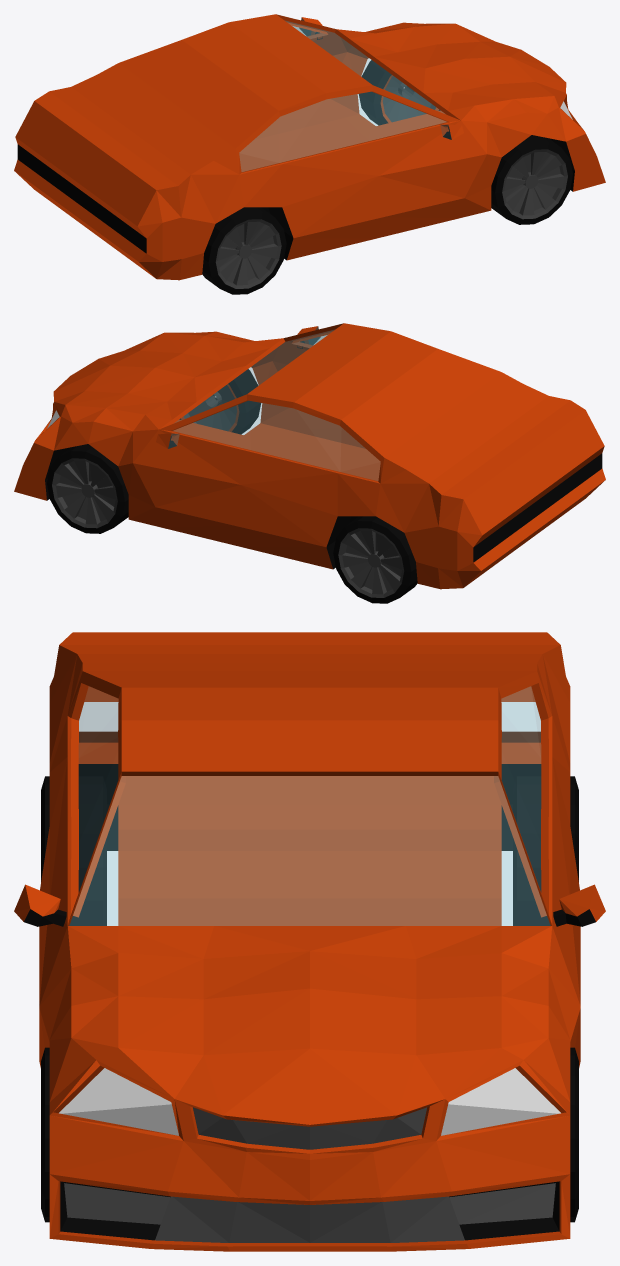
The model's file is OrangeCar.obj.
The picture shows the model from 3 angles, top to bottom: view 1: azimuth 30°, elevation 25°; view 2: azimuth 150°, elevation 25°; view 3: azimuth 270°, elevation 25°; orthographic projection. The views are drawn at different scales.
Visible parts, largest first — view 1: OrangeCar_Material.031, OrangeCar_Material.035, OrangeCar_Material.033, OrangeCar_Material.034; view 2: OrangeCar_Material.031, OrangeCar_Material.035, OrangeCar_Material.033, OrangeCar_Material.034; view 3: OrangeCar_Material.031, OrangeCar_Material.035, OrangeCar_Material.036, OrangeCar_Material.033, OrangeCar_Material.032.
Part boxes in pixels (left/top/right/bottom): OrangeCar_Material.031: left=14, top=14, right=605, bottom=280; OrangeCar_Material.035: left=239, top=18, right=451, bottom=171; OrangeCar_Material.033: left=17, top=28, right=574, bottom=294; OrangeCar_Material.034: left=215, top=76, right=567, bottom=288; OrangeCar_Material.031: left=14, top=323, right=605, bottom=589; OrangeCar_Material.035: left=168, top=327, right=380, bottom=480; OrangeCar_Material.033: left=45, top=337, right=602, bottom=603; OrangeCar_Material.034: left=52, top=385, right=404, bottom=597; OrangeCar_Material.031: left=14, top=632, right=605, bottom=1251; OrangeCar_Material.035: left=69, top=686, right=550, bottom=925; OrangeCar_Material.036: left=64, top=1107, right=555, bottom=1242; OrangeCar_Material.033: left=24, top=764, right=595, bottom=1240; OrangeCar_Material.032: left=59, top=1068, right=560, bottom=1135.
Bounding box in the file's own units: 4.14 × 1.35 × 2.3.
